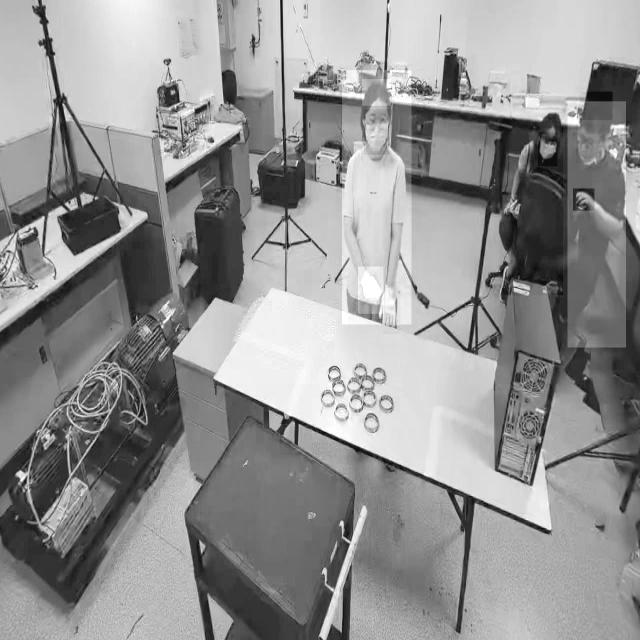face_mask: (364, 109, 389, 155), (538, 132, 558, 166)
face_nomask: (576, 124, 606, 164)
hand_glove: (358, 266, 384, 314), (383, 282, 401, 335)
hand_noglove: (573, 188, 595, 212), (502, 195, 518, 213)
head_nohelmet: (579, 91, 613, 121), (362, 79, 392, 107), (539, 110, 561, 132)
person: (342, 70, 412, 326), (568, 102, 626, 348), (499, 115, 564, 296)
